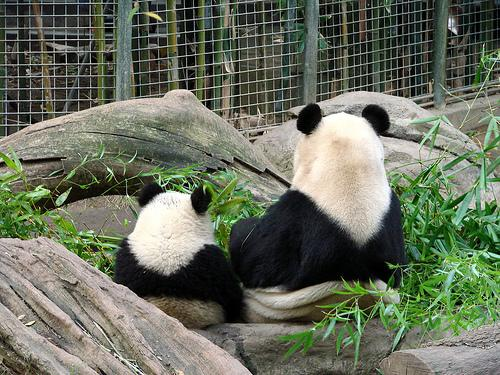panda: (114, 104, 407, 327)
